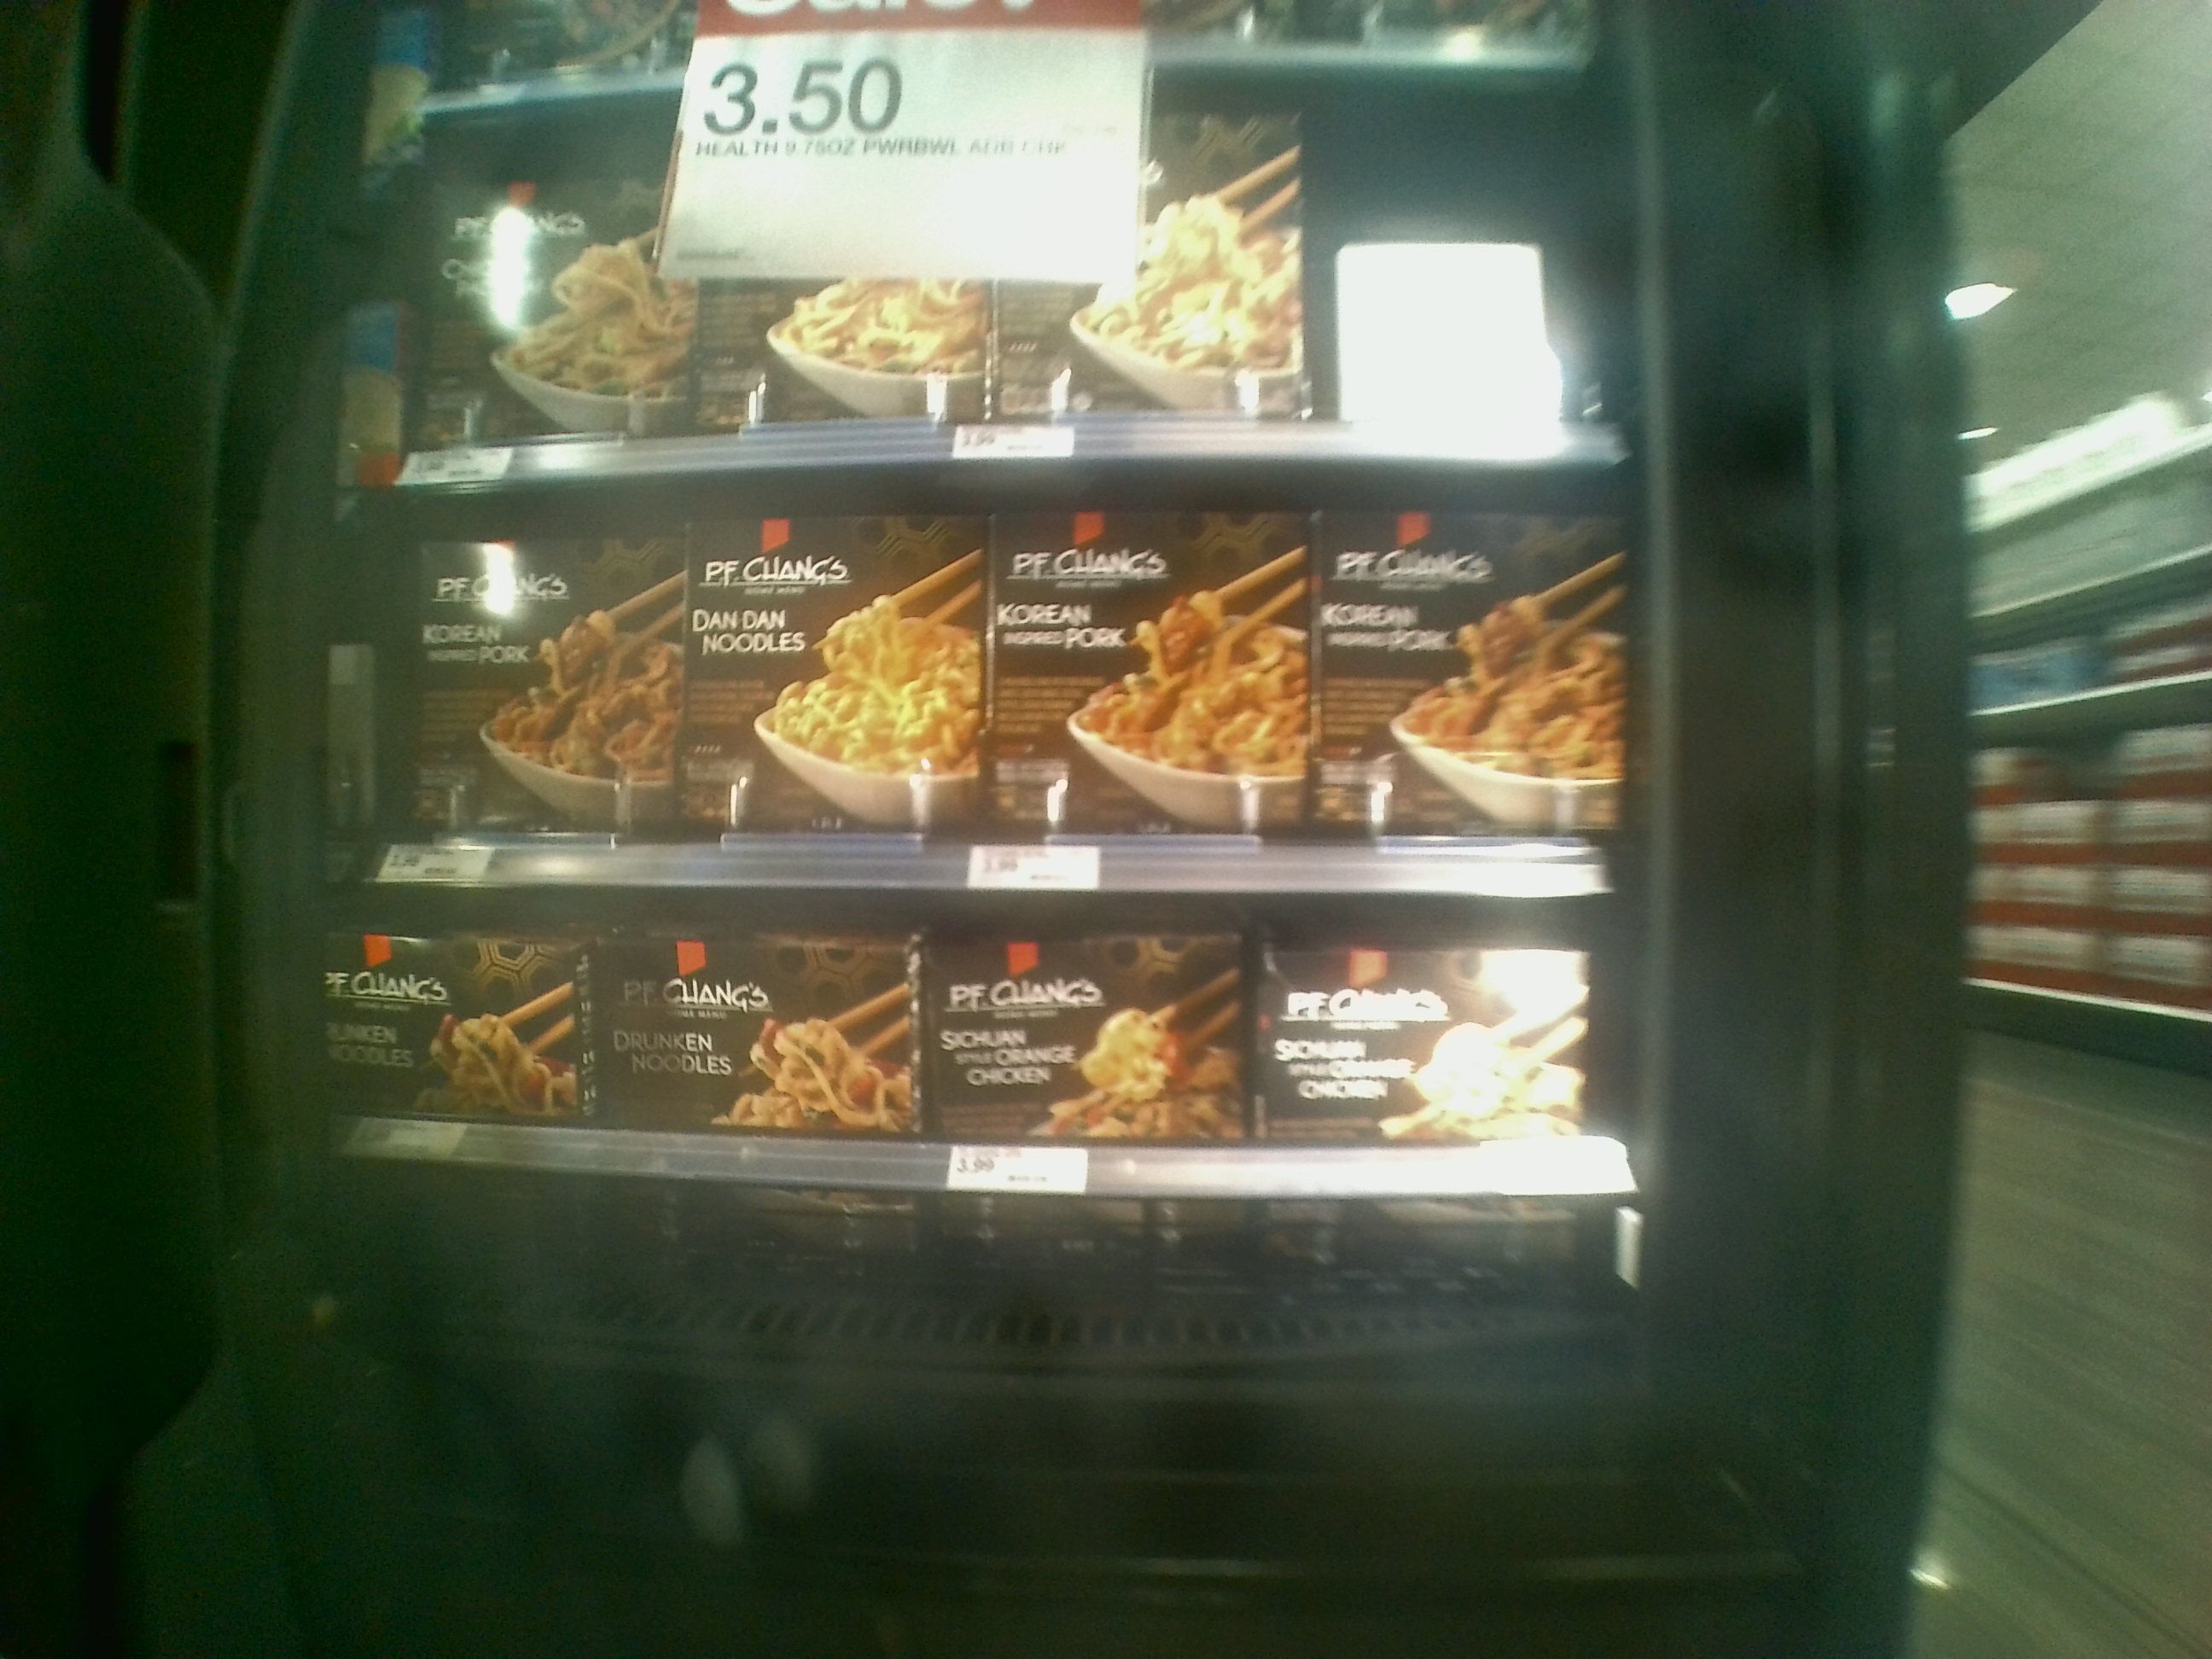shelf: (341, 453, 1616, 894), (338, 871, 1641, 1208)
